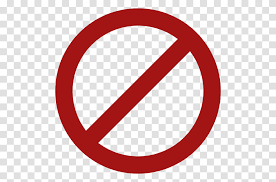SS: (55, 7, 223, 175)
